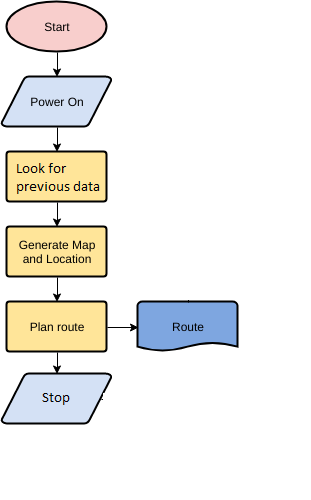arrow: (50, 275, 64, 304), (50, 199, 63, 229), (50, 47, 63, 76), (50, 126, 64, 152), (105, 323, 138, 334), (51, 350, 63, 376)
data: (1, 74, 113, 129), (1, 372, 113, 427)
process: (1, 222, 112, 282), (2, 297, 112, 357), (134, 297, 244, 354), (3, 148, 109, 206)
terminator: (2, 1, 110, 55)
text: (13, 159, 100, 197), (17, 239, 97, 264), (28, 93, 84, 109), (28, 319, 88, 332), (41, 388, 71, 407), (169, 319, 203, 333), (40, 21, 73, 32)
